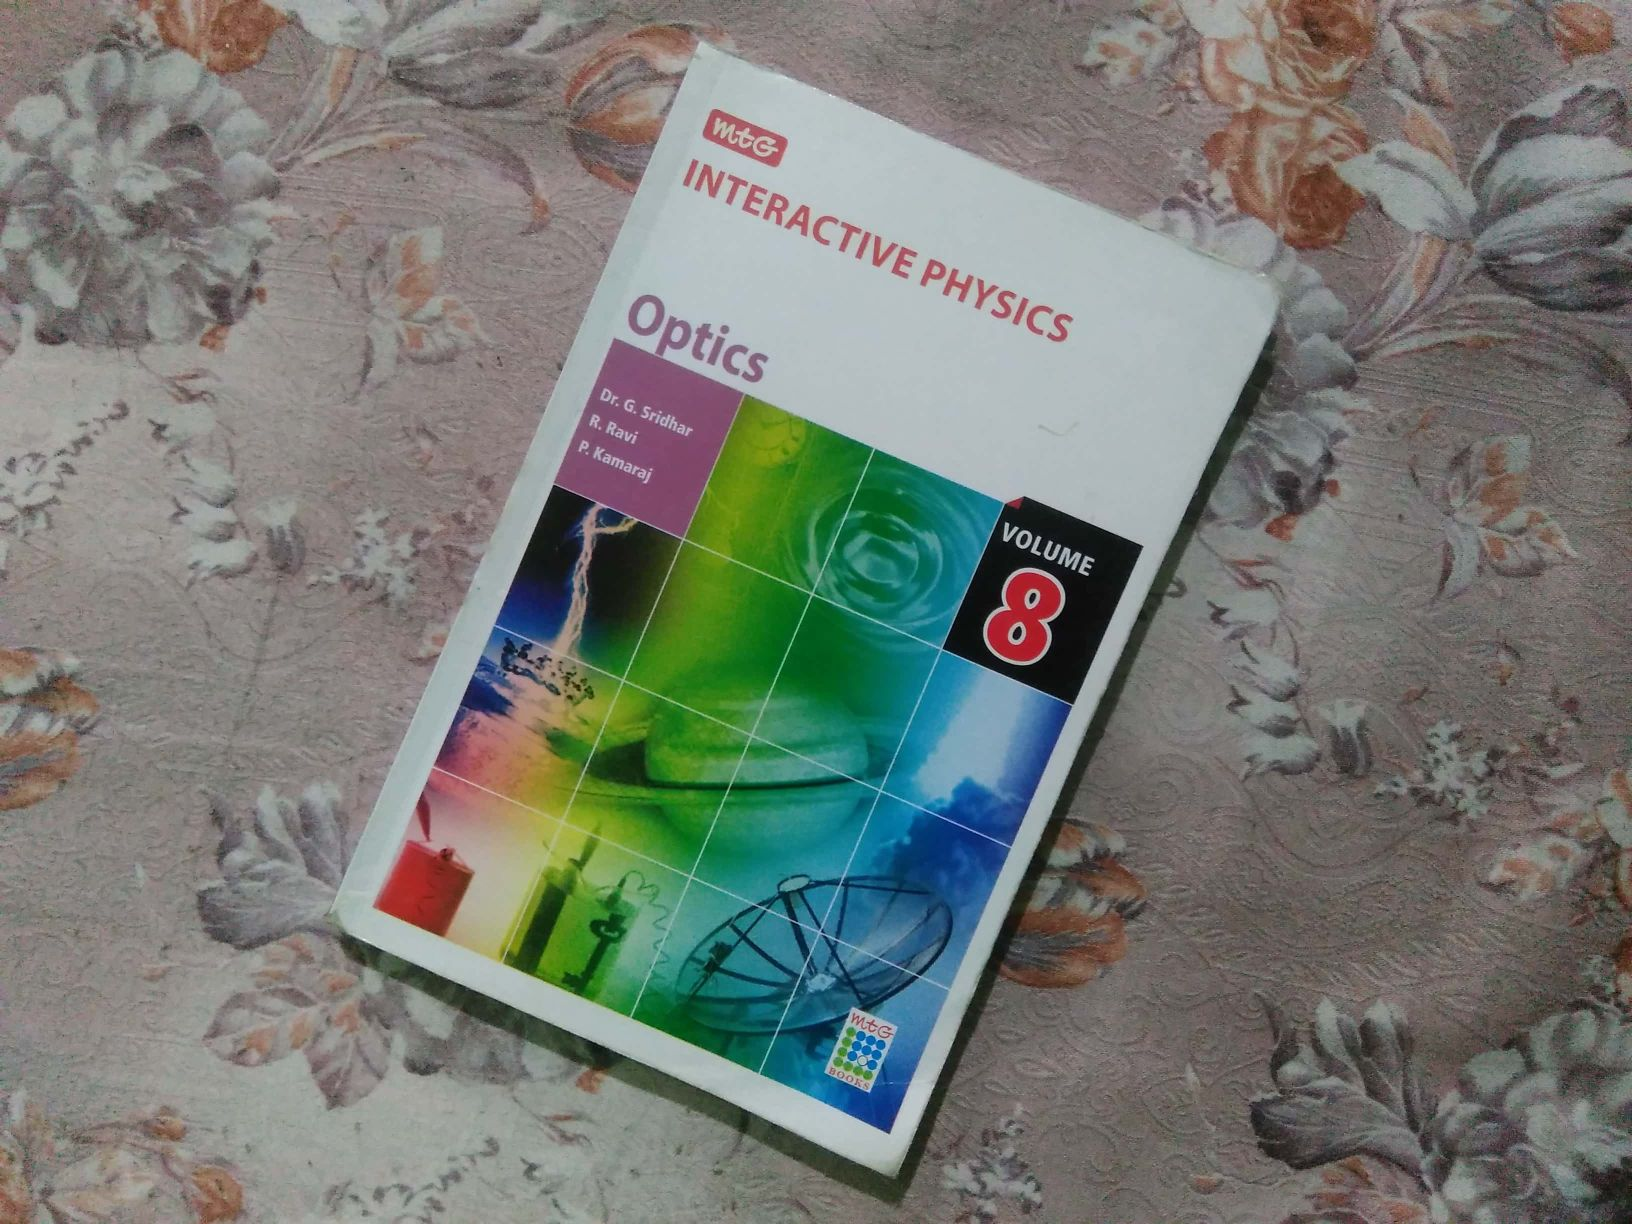optics: (388, 63, 1185, 1185)
